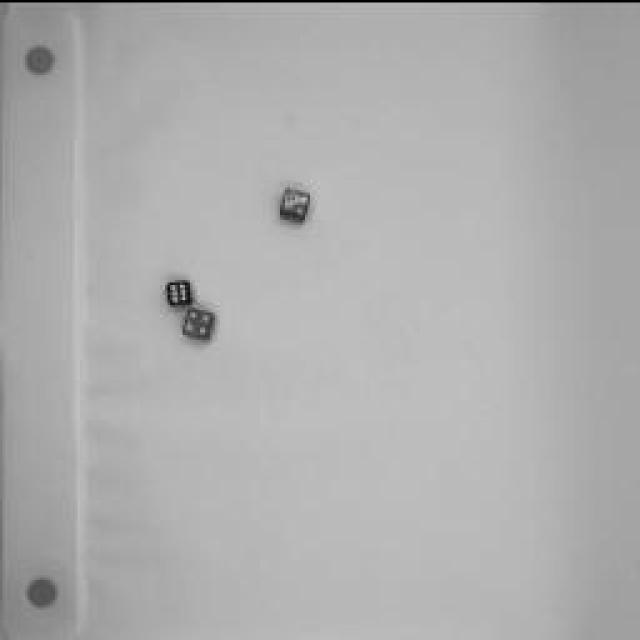dice_2: (272, 180, 322, 228)
dice_4: (179, 300, 221, 342)
dice_6: (164, 271, 198, 309)
